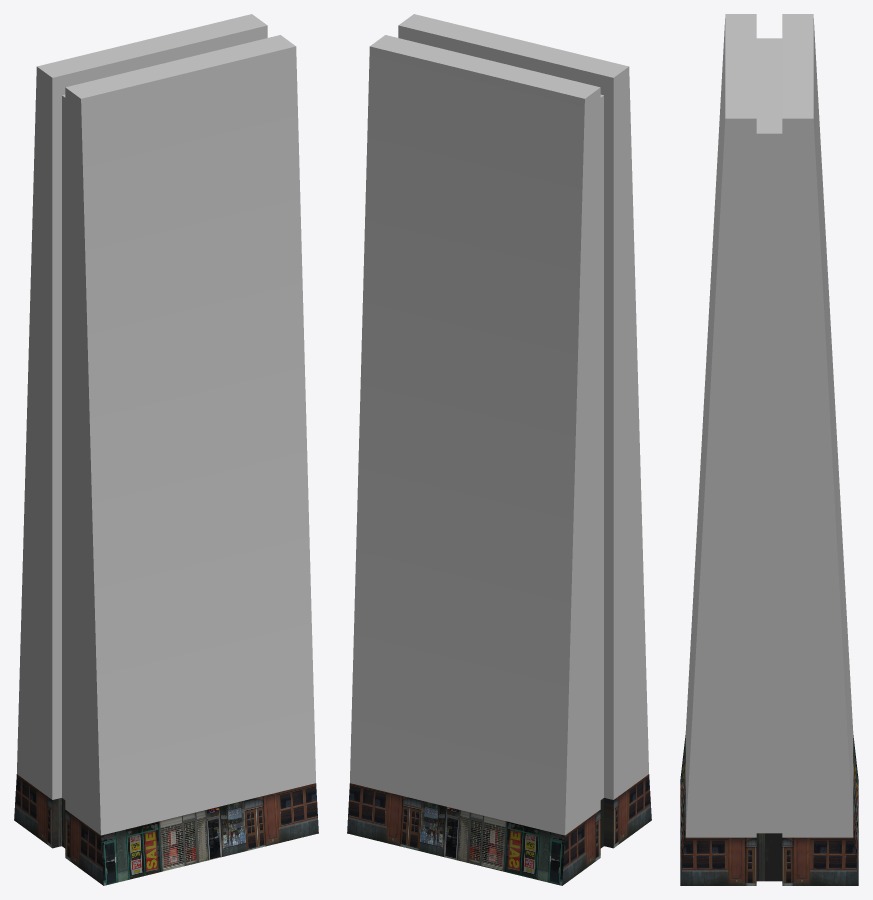
File: NEW building 2.fbx
The picture shows the model from 3 angles, left to right: view 1: azimuth 30°, elevation 25°; view 2: azimuth 150°, elevation 25°; view 3: azimuth 270°, elevation 25°; orthographic projection.
Parts seen in each view (by area): view 1: Object_6.021; view 2: Object_6.021; view 3: Object_6.021.
Boxes of the visible parts, left/top/right/bottom form: Object_6.021: left=14, top=14, right=318, bottom=885; Object_6.021: left=347, top=14, right=651, bottom=885; Object_6.021: left=680, top=14, right=858, bottom=885.
Size of the model in its own units: 356 by 1219 by 257.
